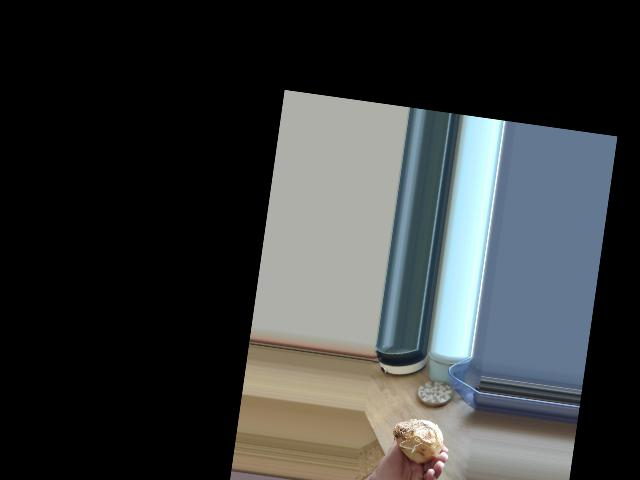onion: (392, 411, 447, 466)
